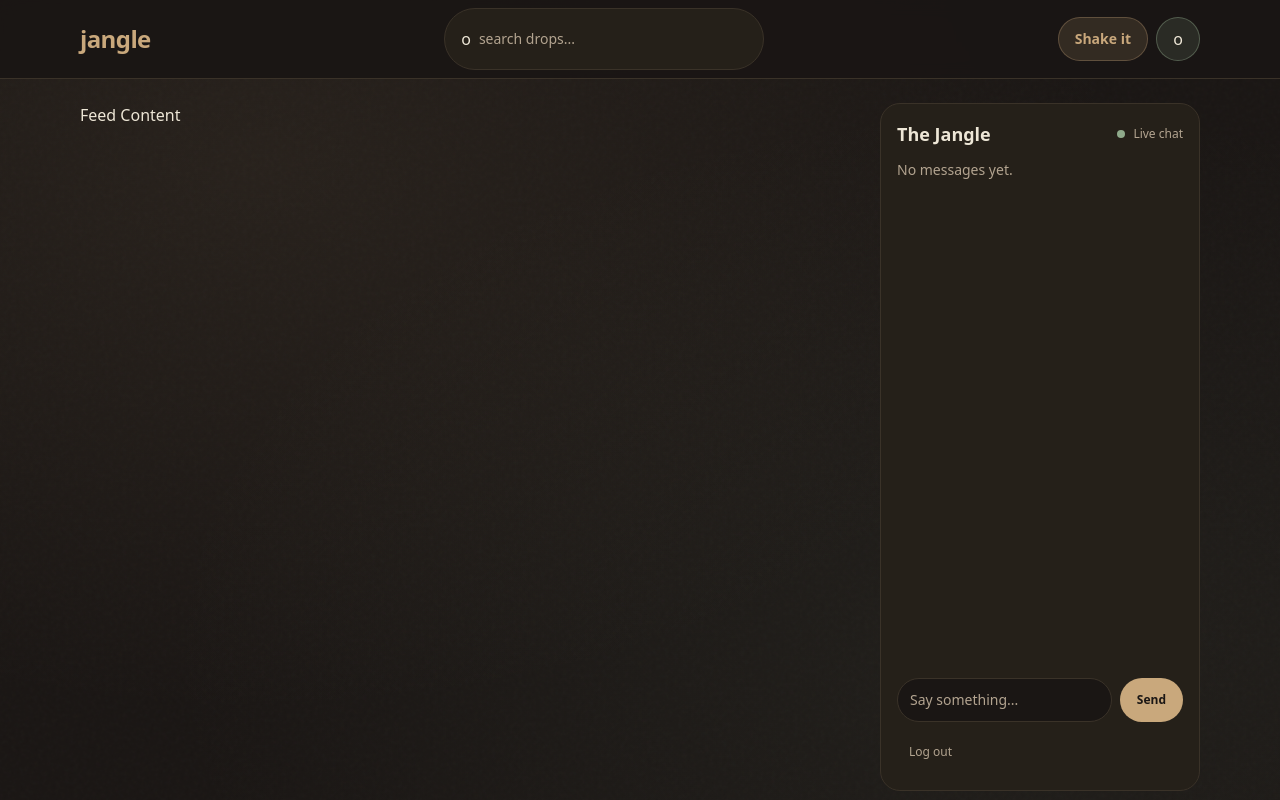
Test: Layout shell › sends a chat message with Enter key
Expected: the text "No messages yet." is shown, [897,160,1013,179]
Type "enter send" into the field named "chat message" at (1004, 700), box [897,678,1112,722]
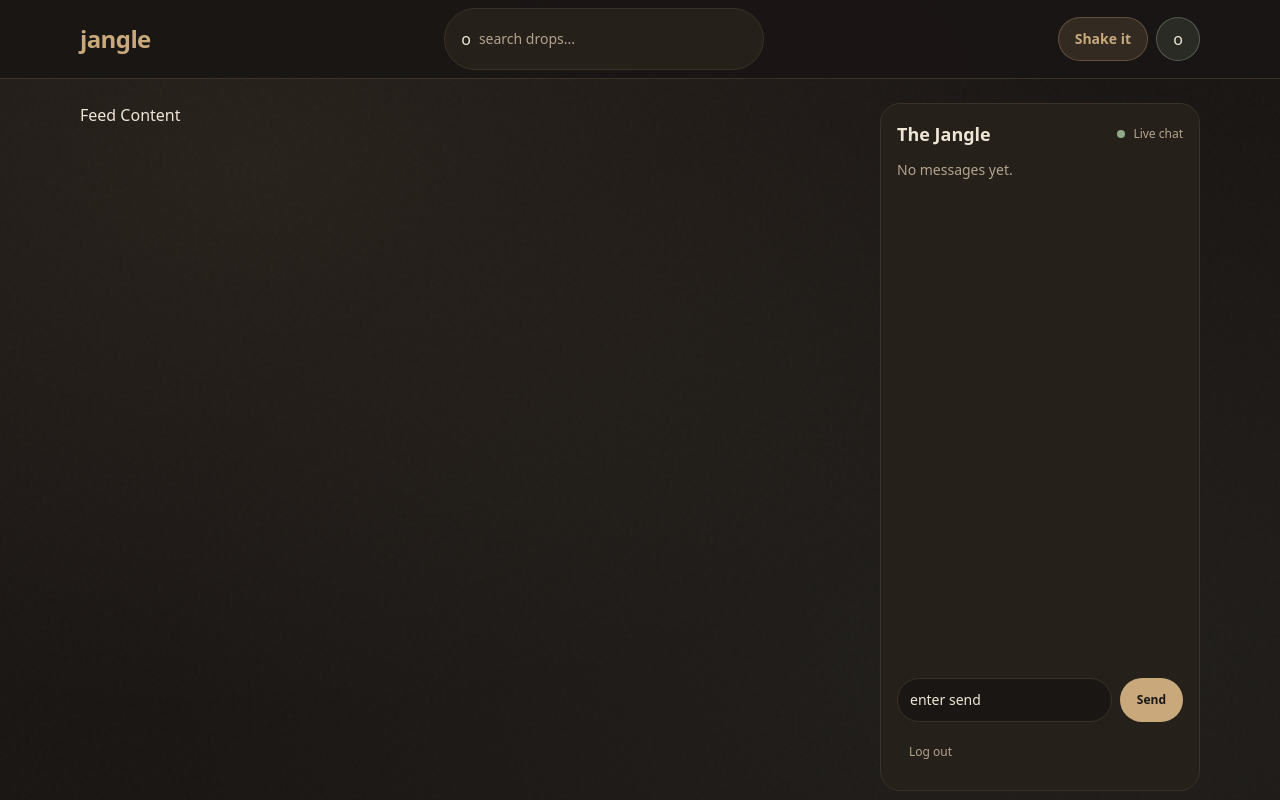
Press Enter in the field named "chat message", box [897,678,1112,722]
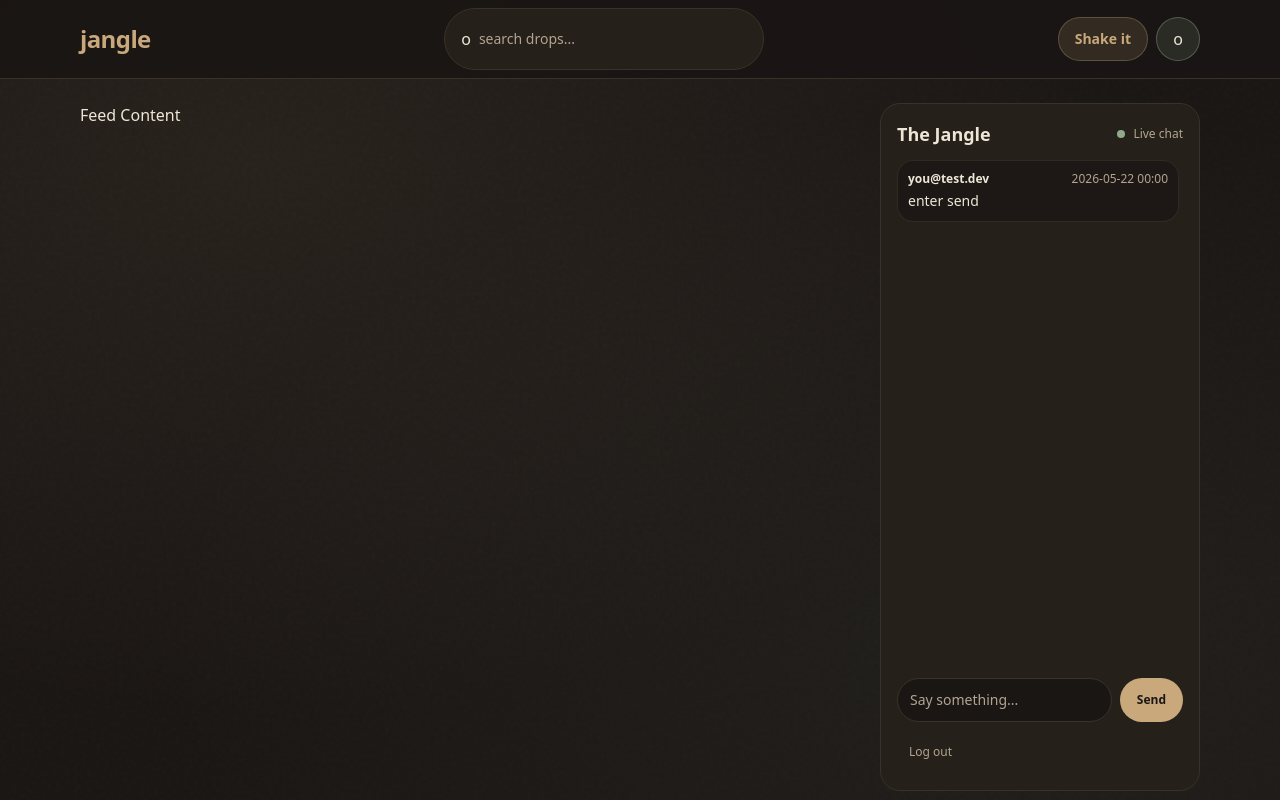
Expected: the text "enter send" is shown, [908,191,979,210]
Expected: the field named "chat message" is empty, [897,678,1112,722]
